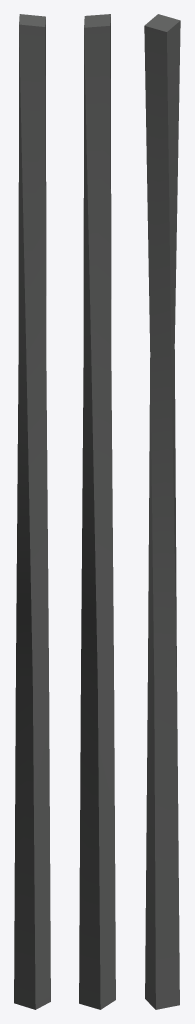
File: ice_ice_pole_iron_4.5.fbx
3 views of the same model, side by side, from view 1: azimuth 30°, elevation 25°; view 2: azimuth 210°, elevation 25°; view 3: azimuth 270°, elevation 25° (orthographic).
Visible parts, largest first — view 1: ice_pole_iron_4.5; view 2: ice_pole_iron_4.5; view 3: ice_pole_iron_4.5.
Boxes of the visible parts, x1,y1,x2,y2 form: ice_pole_iron_4.5: [14, 14, 50, 1009]; ice_pole_iron_4.5: [79, 14, 115, 1009]; ice_pole_iron_4.5: [144, 14, 180, 1009].
Bounding box in the file's own units: 0.1506 × 4.51 × 0.1512.
1 material, 1 textured.
